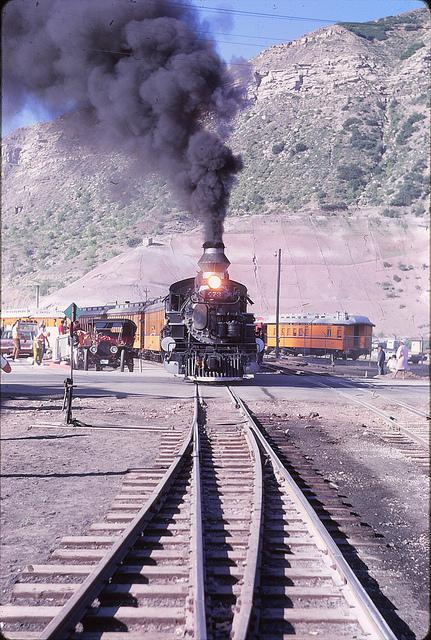Train: (106, 241, 261, 383), (254, 311, 377, 361)
